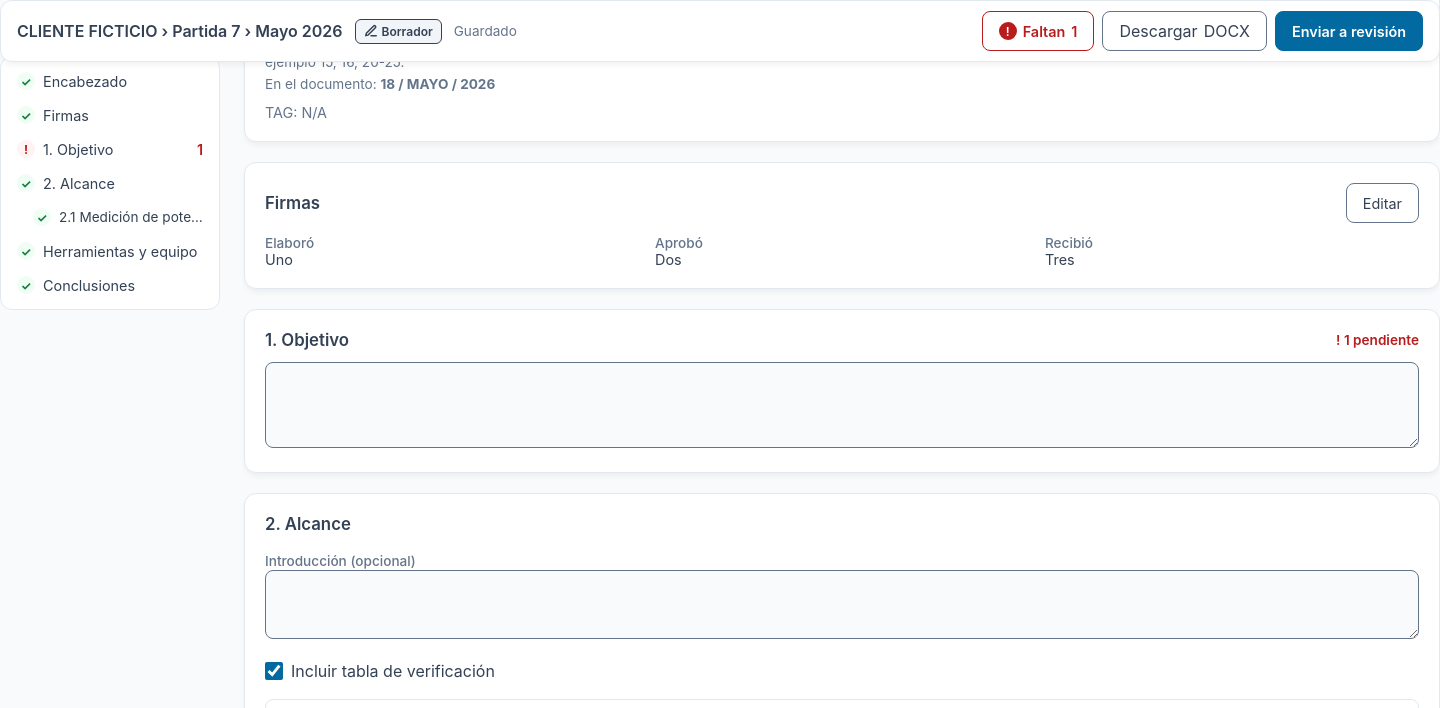
Test case: EditorReporte: verificación, fotos y acciones › una sección abierta por un pendiente no se cierra mientras se escribe
(page scrolled)
In the text box named "Objetivo": (842, 405) [265, 362, 1419, 448], type "Nuevo objetivo"
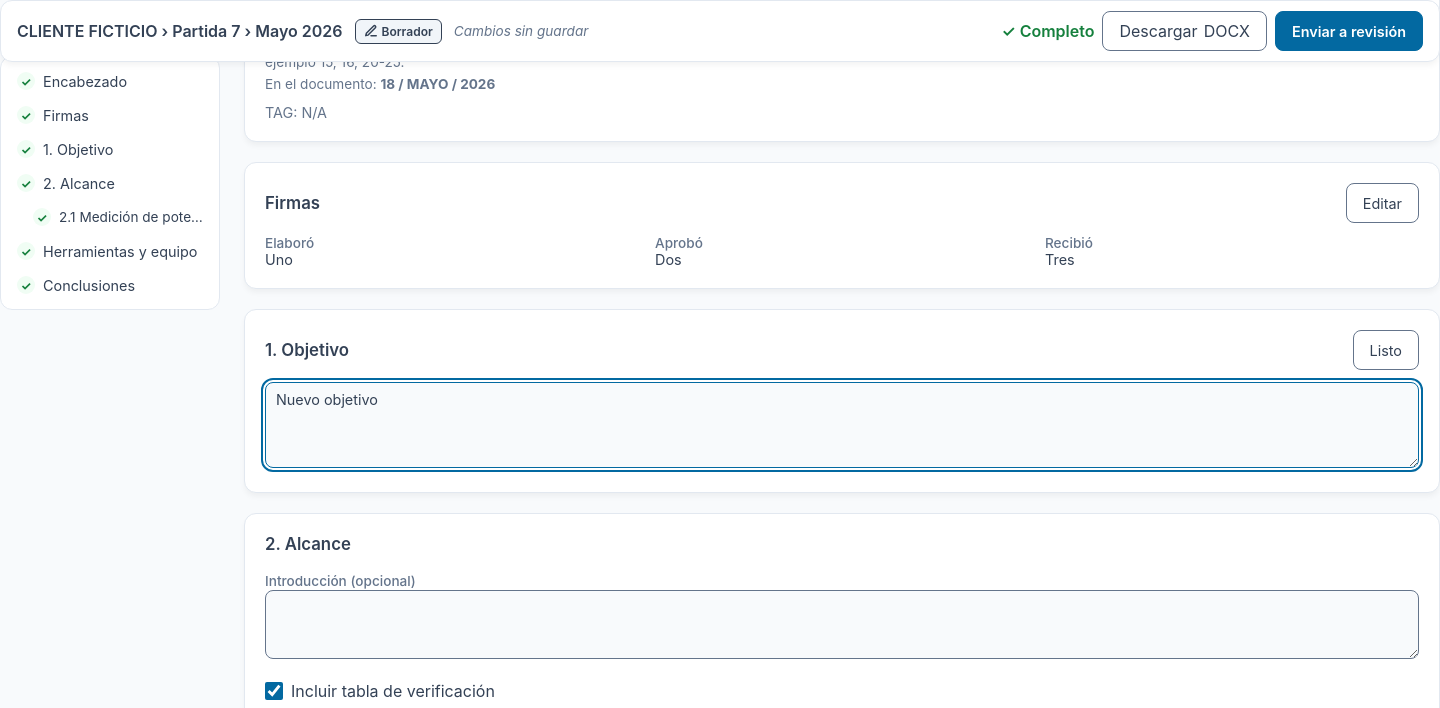
Click the button "Listo": (1386, 350) [1353, 330, 1419, 370]
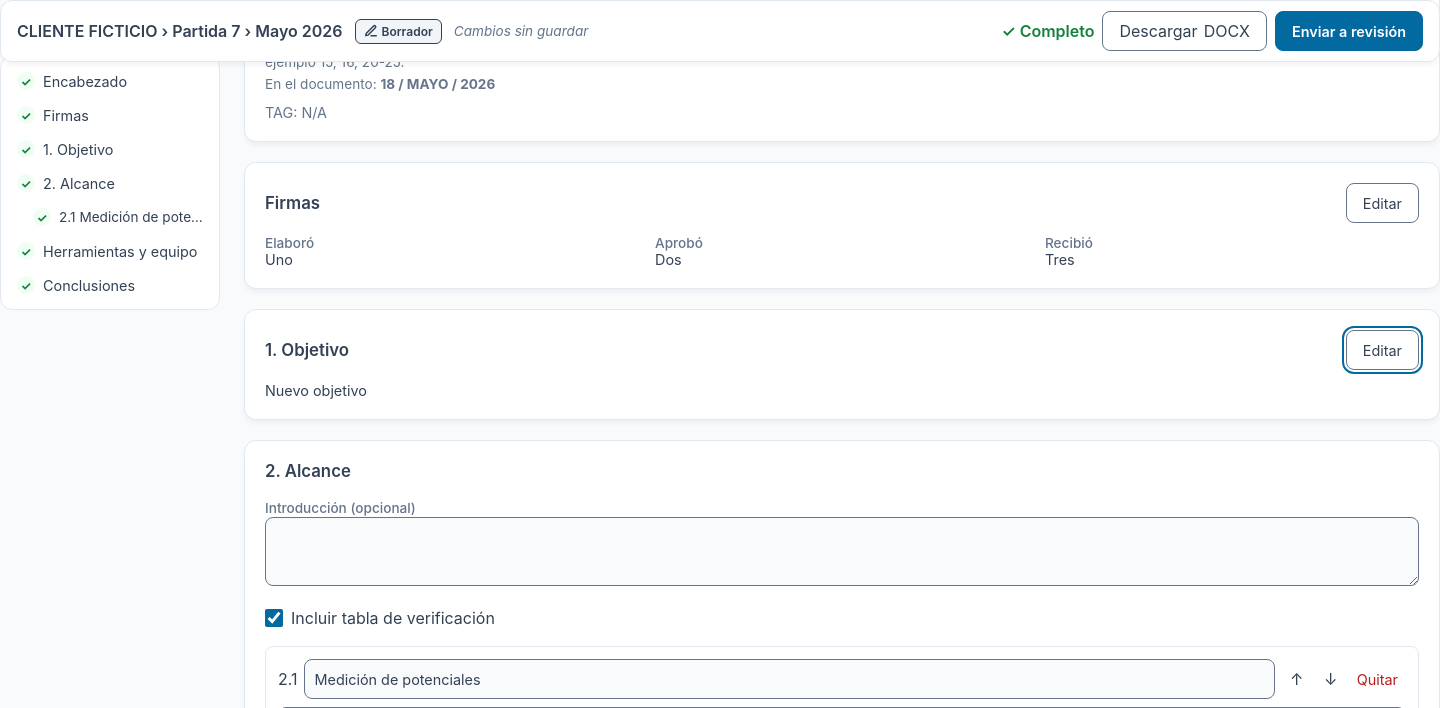
Result: the element "1. Objetivo Editar Nuevo objetivo" is shown at [244, 309, 1439, 420]
